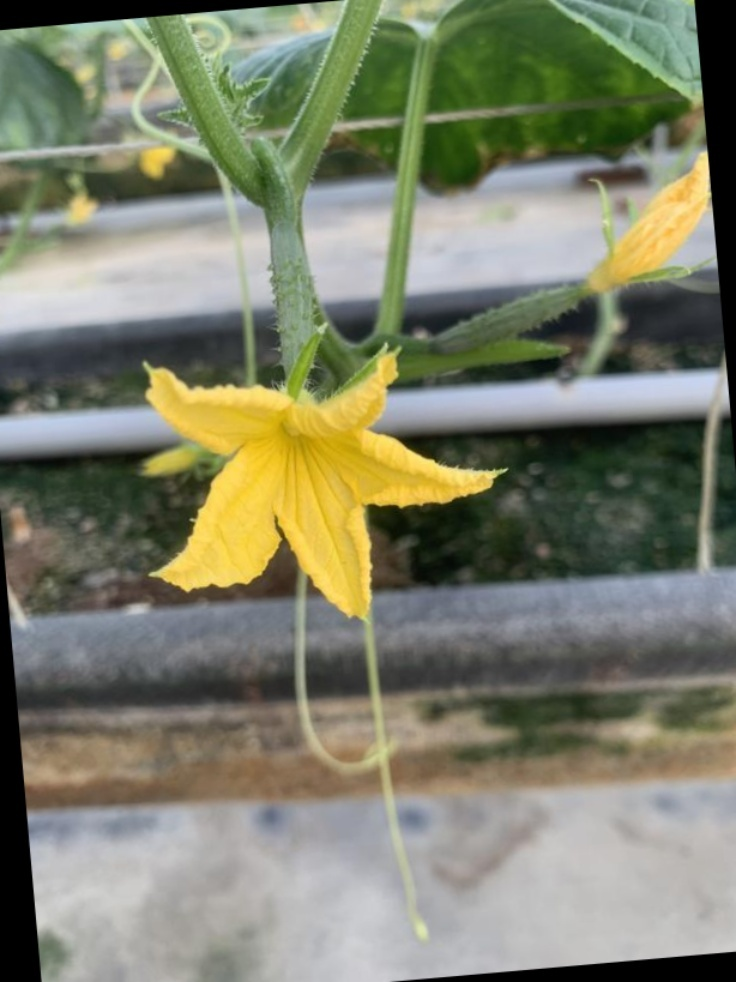bear: (418, 177, 701, 363)
flowering: (128, 327, 504, 620)
